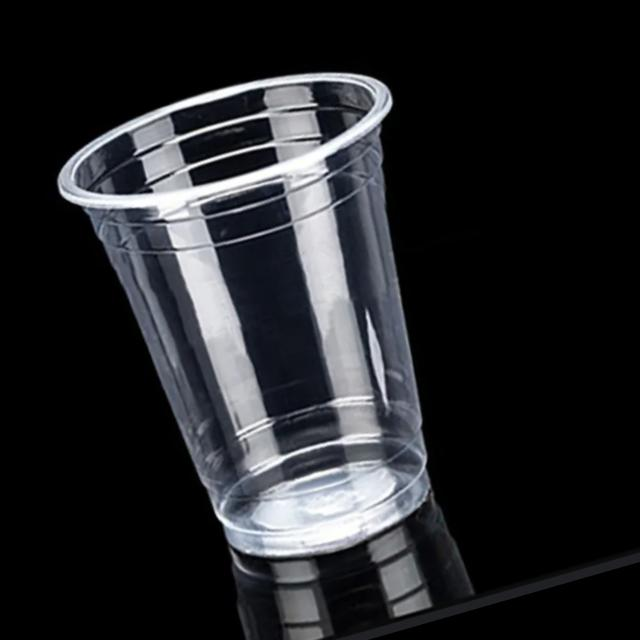GelasPlastik: (41, 40, 508, 598)
